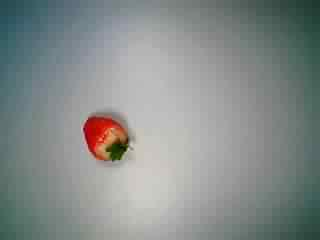strawberry: (75, 107, 143, 171)
